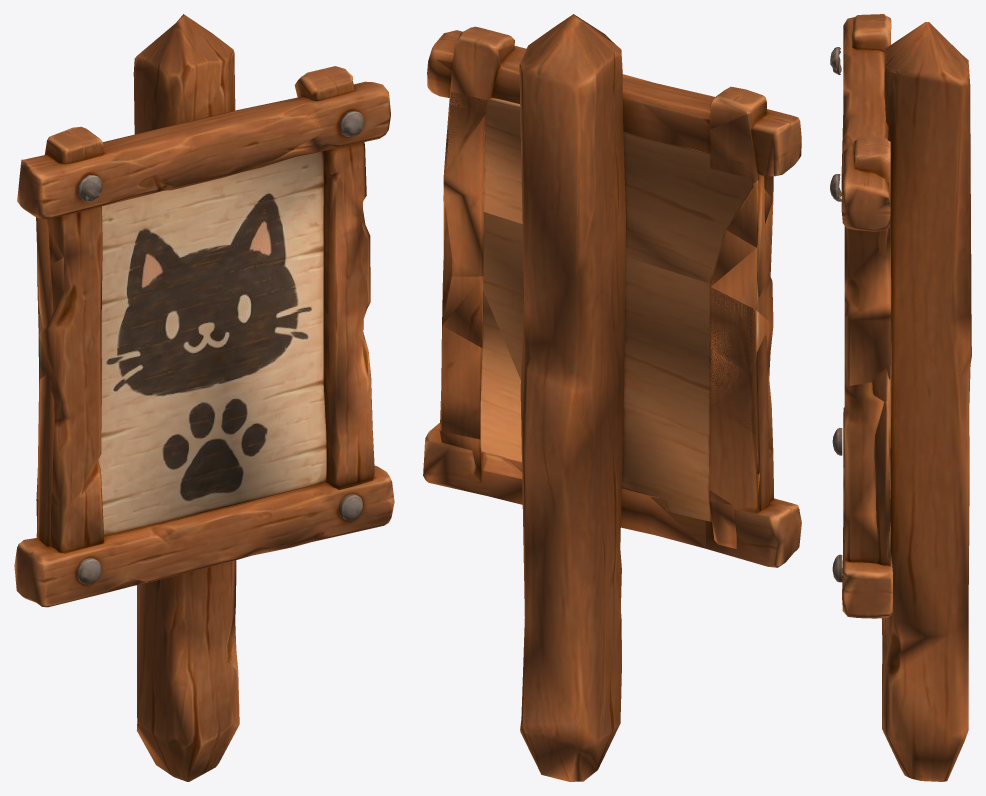
File: cat_face_signboard.glb
3 renders of one model, left to right at view 1: azimuth 30°, elevation 25°; view 2: azimuth 150°, elevation 25°; view 3: azimuth 270°, elevation 25°, orthographic.
Parts seen in each view (by area): view 1: cat_face_signboard; view 2: cat_face_signboard; view 3: cat_face_signboard.
Part boxes in pixels (box(x1,y1,x2,y2)): cat_face_signboard: box(14, 14, 394, 781); cat_face_signboard: box(423, 14, 801, 781); cat_face_signboard: box(830, 14, 971, 781).
Size of the model in its own units: 0.5444 by 1.1 by 0.1884.
1 material, 1 textured.
